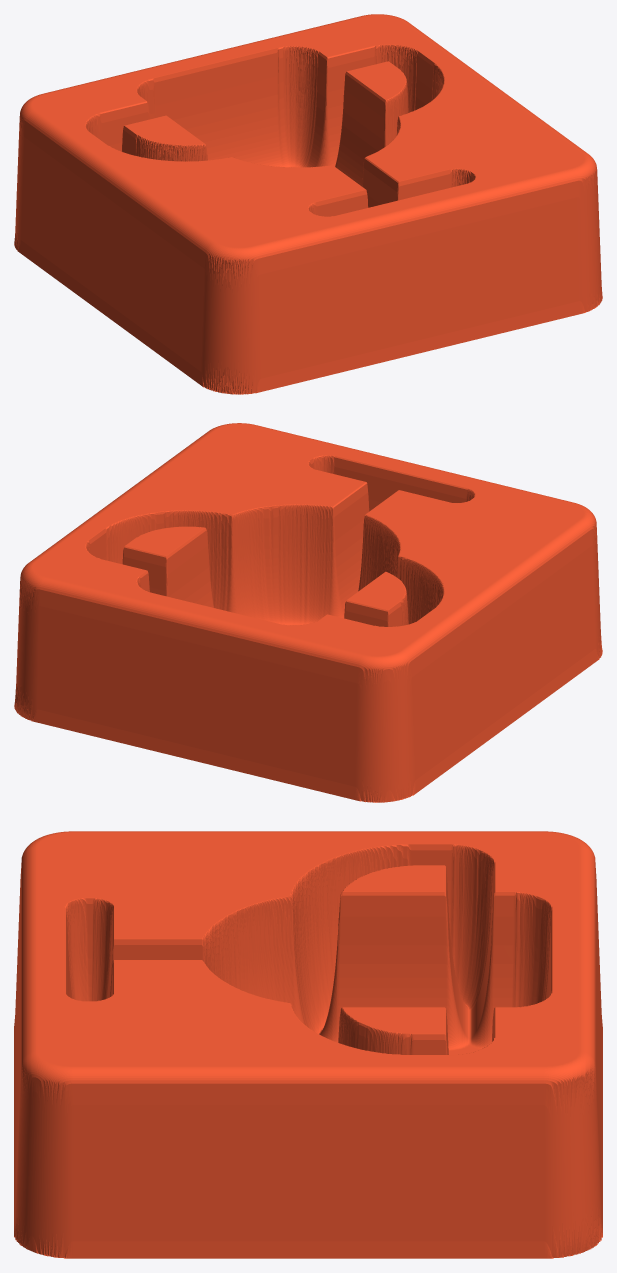
Rendered from mold.glb.
3 renders of one model, top to bottom at view 1: azimuth 30°, elevation 25°; view 2: azimuth 150°, elevation 25°; view 3: azimuth 270°, elevation 25°, orthographic. The views are drawn at different scales.
Parts seen in each view (by area): view 1: geometry_0; view 2: geometry_0; view 3: geometry_0.
Part boxes in pixels (x1,y1,x2,y2): geometry_0: [14, 14, 602, 394]; geometry_0: [14, 423, 602, 802]; geometry_0: [14, 831, 602, 1258].
Size of the model in its own units: 0.0924 by 0.031 by 0.0908.
